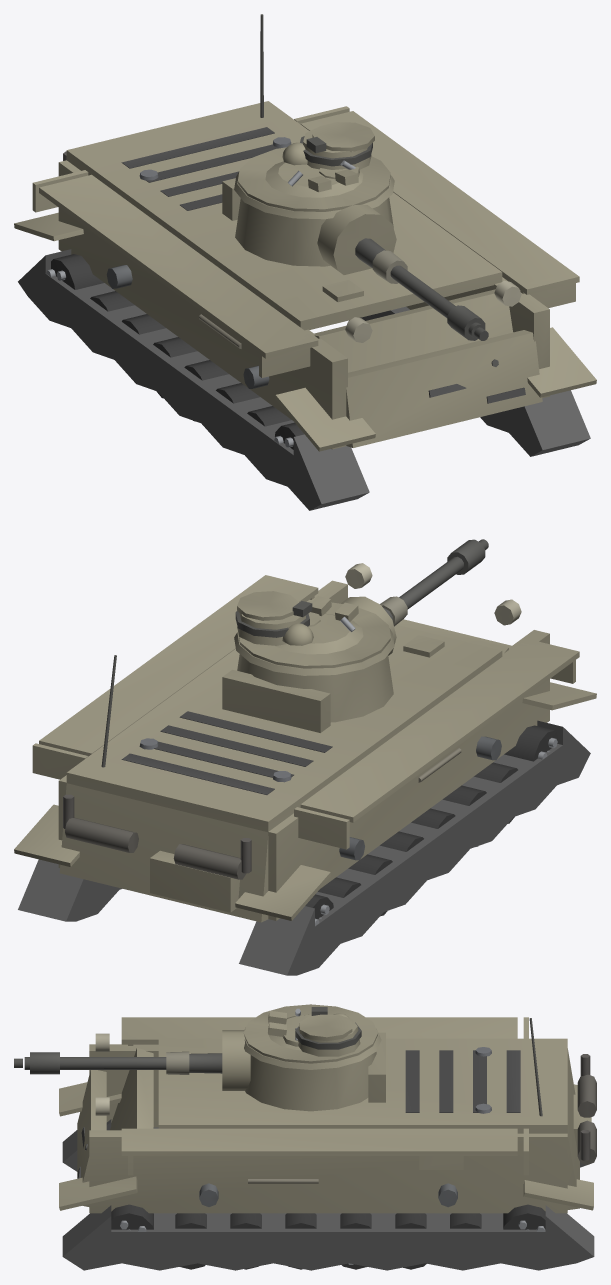
Rendered from chihe.glb.
3 renders of one model, top to bottom at view 1: azimuth 30°, elevation 25°; view 2: azimuth 150°, elevation 25°; view 3: azimuth 270°, elevation 25°, orthographic. The views are drawn at different scales.
Visible parts, largest first — view 1: hullSide, hullTop, tracks, lowerPlate, turretRoof, glacis, turretFront, mantlet, barrel, wheel7, turretSide; view 2: hullSide, hullTop, tracks, hullRear, turretRoof, turretRear, turretFront, barrel, turretSide, wheel6, glacis, mantlet; view 3: hullSide, tracks, hullTop, turretRoof, turretFront, hullRear, barrel, glacis, lowerPlate, mantlet, turretSide, wheel14 (+8 smaller).
Part boxes in pixels (x1,y1,x2,y2): hullSide: [32, 106, 579, 449]; hullTop: [66, 101, 502, 330]; tracks: [14, 212, 596, 510]; lowerPlate: [346, 330, 542, 447]; turretRoof: [238, 122, 390, 211]; glacis: [314, 280, 525, 403]; turretFront: [235, 197, 393, 266]; mantlet: [317, 204, 396, 274]; barrel: [355, 238, 488, 340]; wheel7: [46, 254, 103, 289]; turretSide: [234, 171, 394, 219]; hullSide: [32, 563, 579, 920]; hullTop: [66, 601, 502, 831]; tracks: [14, 682, 596, 975]; hullRear: [59, 655, 270, 922]; turretRoof: [235, 591, 390, 668]; turretRear: [222, 669, 330, 732]; turretFront: [237, 654, 393, 722]; barrel: [380, 539, 488, 626]; turretSide: [234, 628, 394, 675]; wheel6: [504, 725, 557, 761]; glacis: [397, 621, 508, 657]; mantlet: [341, 596, 396, 655]; hullSide: [89, 1017, 567, 1213]; tracks: [59, 1082, 594, 1270]; hullTop: [158, 1038, 567, 1133]; turretRoof: [243, 1004, 377, 1063]; turretFront: [245, 1052, 376, 1111]; hullRear: [529, 1018, 596, 1209]; barrel: [14, 1051, 222, 1074]; glacis: [77, 1048, 153, 1178]; lowerPlate: [77, 1070, 106, 1206]; mantlet: [222, 1030, 250, 1090]; turretSide: [244, 1029, 381, 1069]; wheel14: [111, 1204, 153, 1231].
Bounding box in the file's own units: 3.58 × 2.85 × 6.58.
